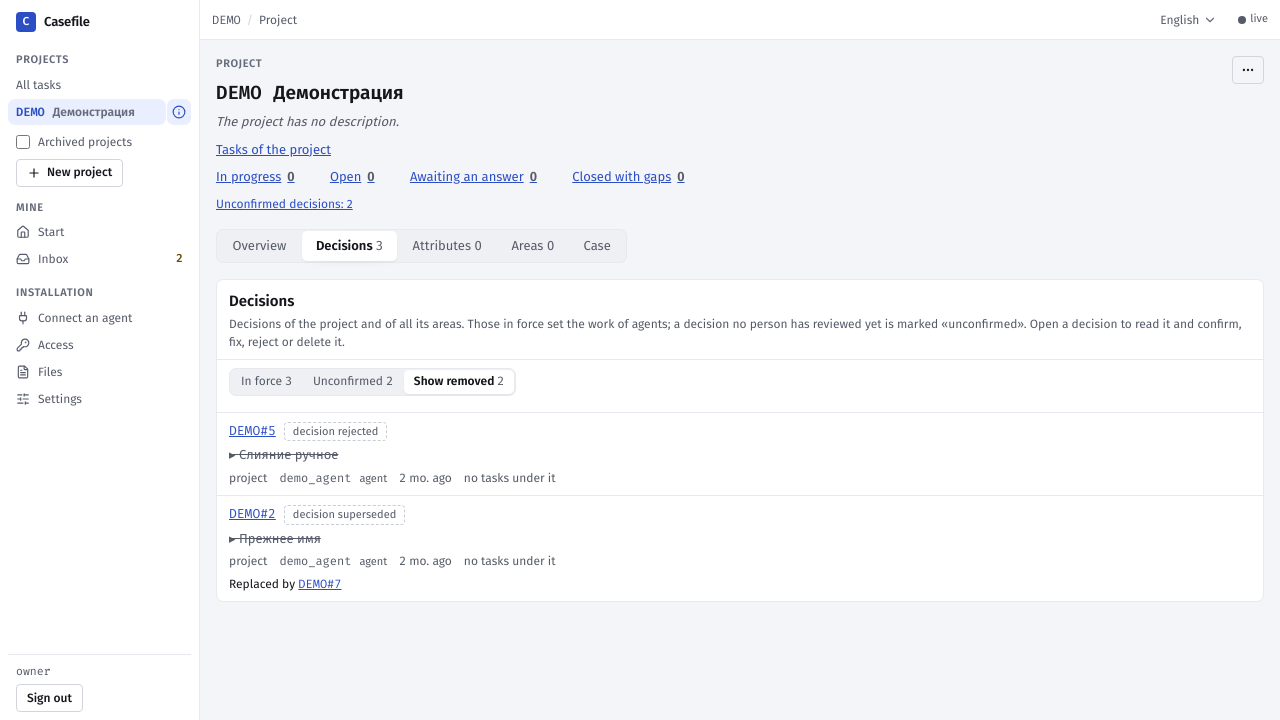
it: вкладка «Решения» проекта › отклонённое в «Показать снятые» — плашка «отклонено» и ни одного действия
Click the button "Слияние ручное": (289, 455) [229,445,1251,465]
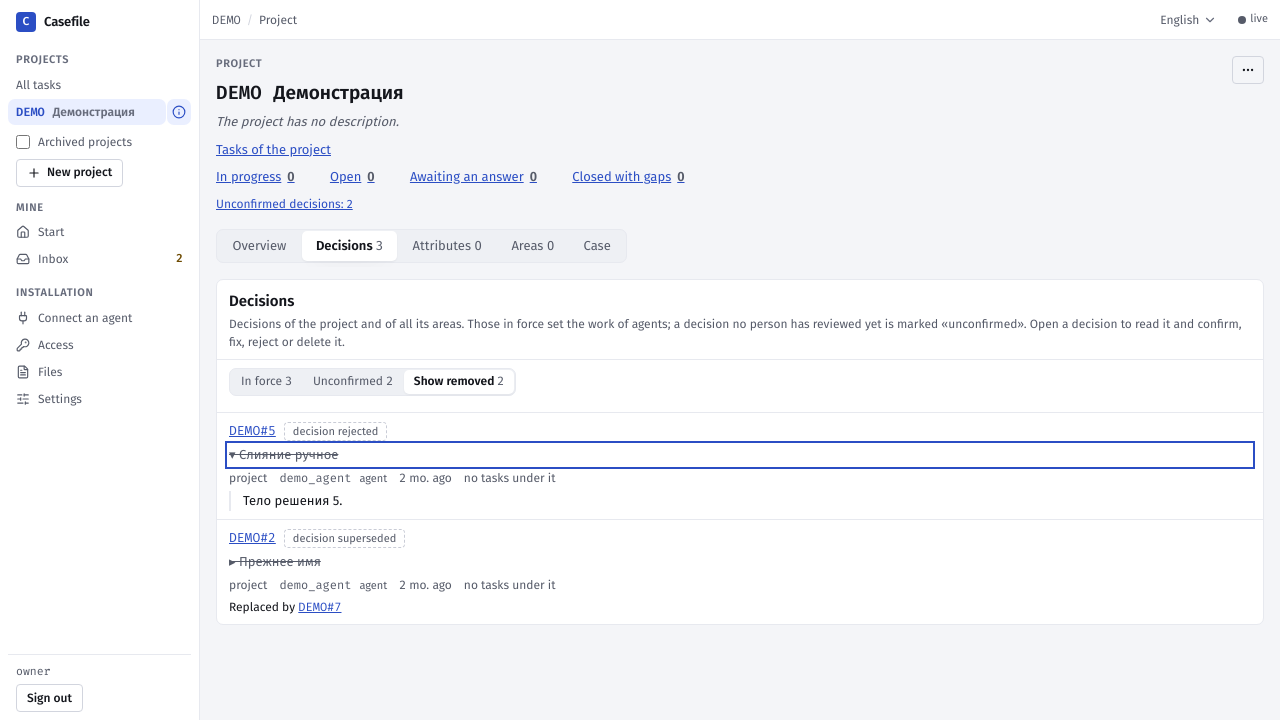
expect the text "Тело решения 5." is shown: met, box [243,493,342,508]
